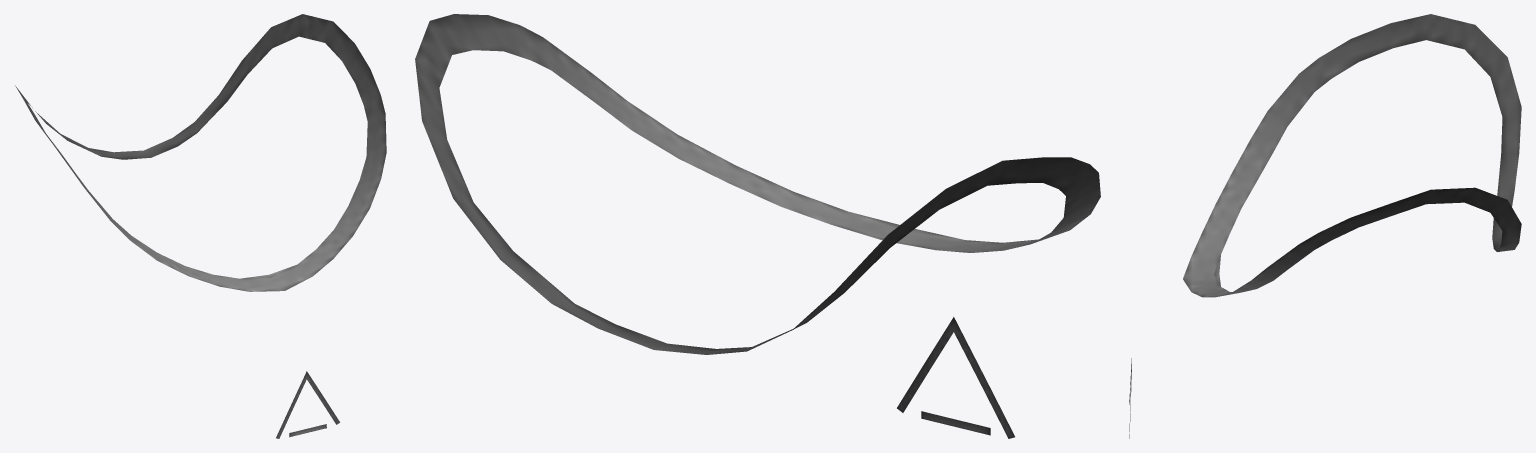
The model's file is body_highlight.obj.
3 renders of one model, left to right at view 1: azimuth 30°, elevation 25°; view 2: azimuth 150°, elevation 25°; view 3: azimuth 270°, elevation 25°, orthographic. The views are drawn at different scales.
Parts seen in each view (by area): view 1: body_highlight.obj; view 2: body_highlight.obj; view 3: body_highlight.obj.
Part boxes in pixels (<box>): body_highlight.obj: <box>15,14,386,438</box>; body_highlight.obj: <box>415,14,1100,438</box>; body_highlight.obj: <box>1129,14,1521,438</box>.
Size of the model in its own units: 0.2253 by 0.1875 by 0.2073.
Materials: 1 (1 with a texture image).
